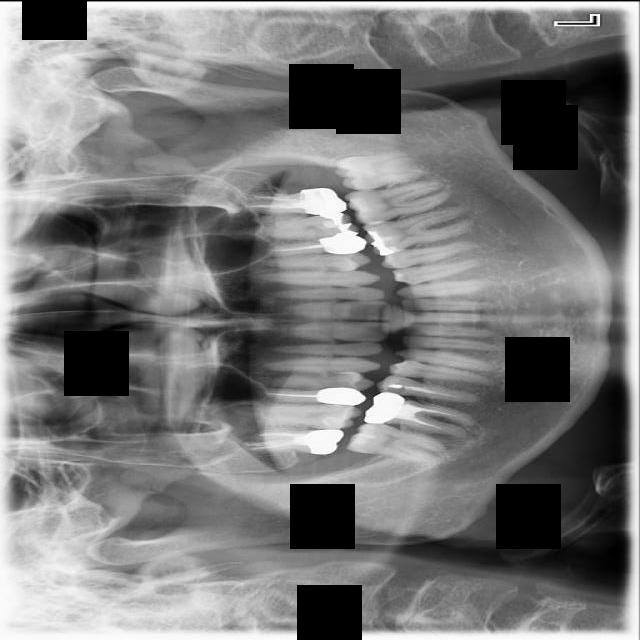52: (361, 216, 410, 257), (362, 386, 406, 431), (300, 184, 348, 216), (308, 211, 359, 240), (318, 232, 369, 255), (314, 384, 366, 406), (306, 427, 345, 455), (376, 374, 408, 395)
73: (386, 395, 475, 438), (400, 377, 479, 403), (244, 428, 318, 451), (244, 191, 308, 213), (266, 239, 326, 256), (261, 386, 323, 402), (560, 38, 576, 44)
BioHorizons Implant: (243, 187, 349, 215)
Biomet 3i Implant: (332, 145, 428, 196)
Blue Sky Bio Implant: (344, 177, 453, 228)
Caries: (245, 426, 344, 454)
Implant: (345, 418, 445, 466)
